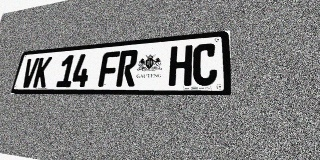1: (56, 55, 77, 87)
4: (71, 53, 92, 87)
C: (192, 43, 217, 86)
F: (98, 51, 120, 87)
H: (168, 45, 193, 86)
K: (32, 57, 52, 88)
R: (116, 49, 139, 87)
V: (20, 58, 40, 88)
